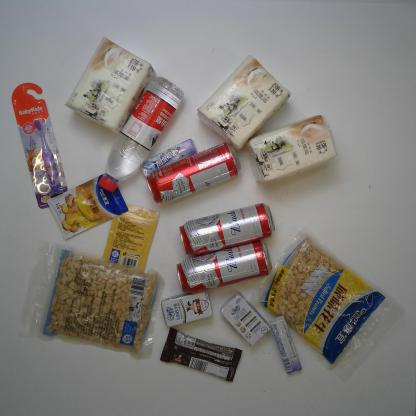Alcohol: (145, 141, 242, 205), (175, 240, 273, 294), (178, 204, 277, 257)
Candy: (139, 138, 198, 178), (270, 315, 302, 375)
Chocolate: (159, 326, 242, 383)
Dried Fruit: (248, 224, 399, 380), (16, 239, 166, 359)
Drink: (99, 75, 184, 194)
Milk: (219, 292, 271, 348), (160, 289, 213, 328)
Personal Hygiene: (10, 81, 69, 209)
Seasoner: (45, 171, 129, 241), (100, 203, 160, 274)
Tissue: (195, 52, 291, 151), (63, 35, 156, 136), (247, 114, 337, 184)
